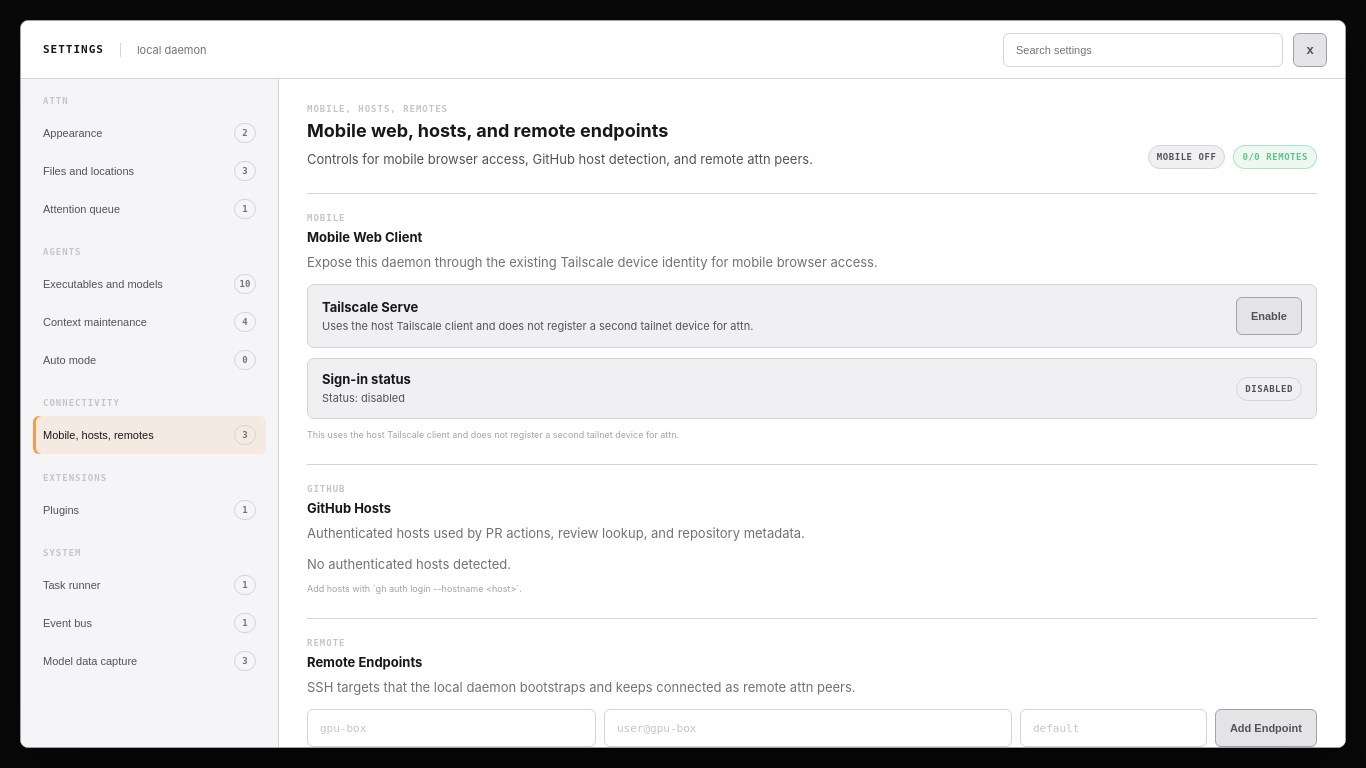
Test case: SettingsModal drafts › writes an effort override on change, under the model field’s mark
Click the button with test id "settings-nav-agents".
click(150, 284)  # box x1=33 y1=265 x2=266 y2=303
(page scrolled)
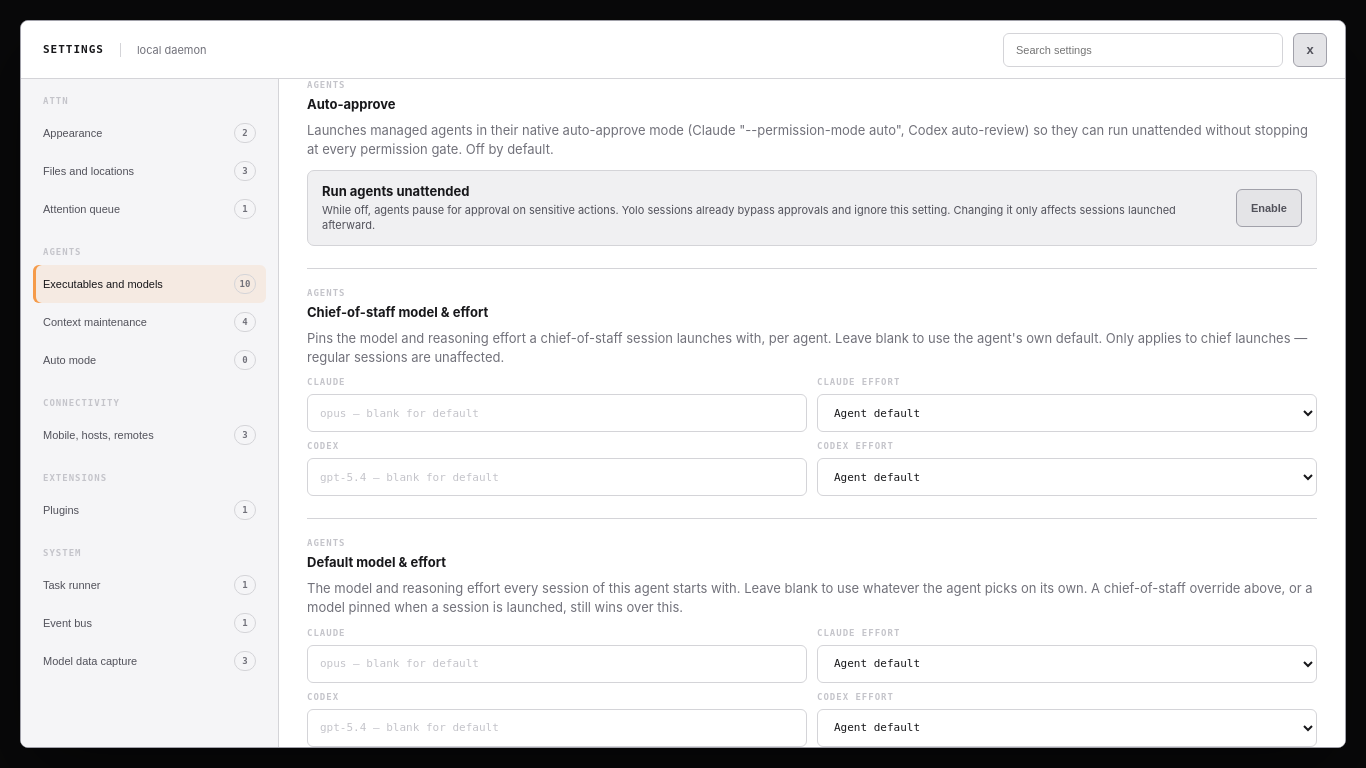
Select "high" in the dropdown with test id "settings-chief-effort-claude" at {"x": 1067, "y": 413}, box x1=817 y1=394 x2=1317 y2=432
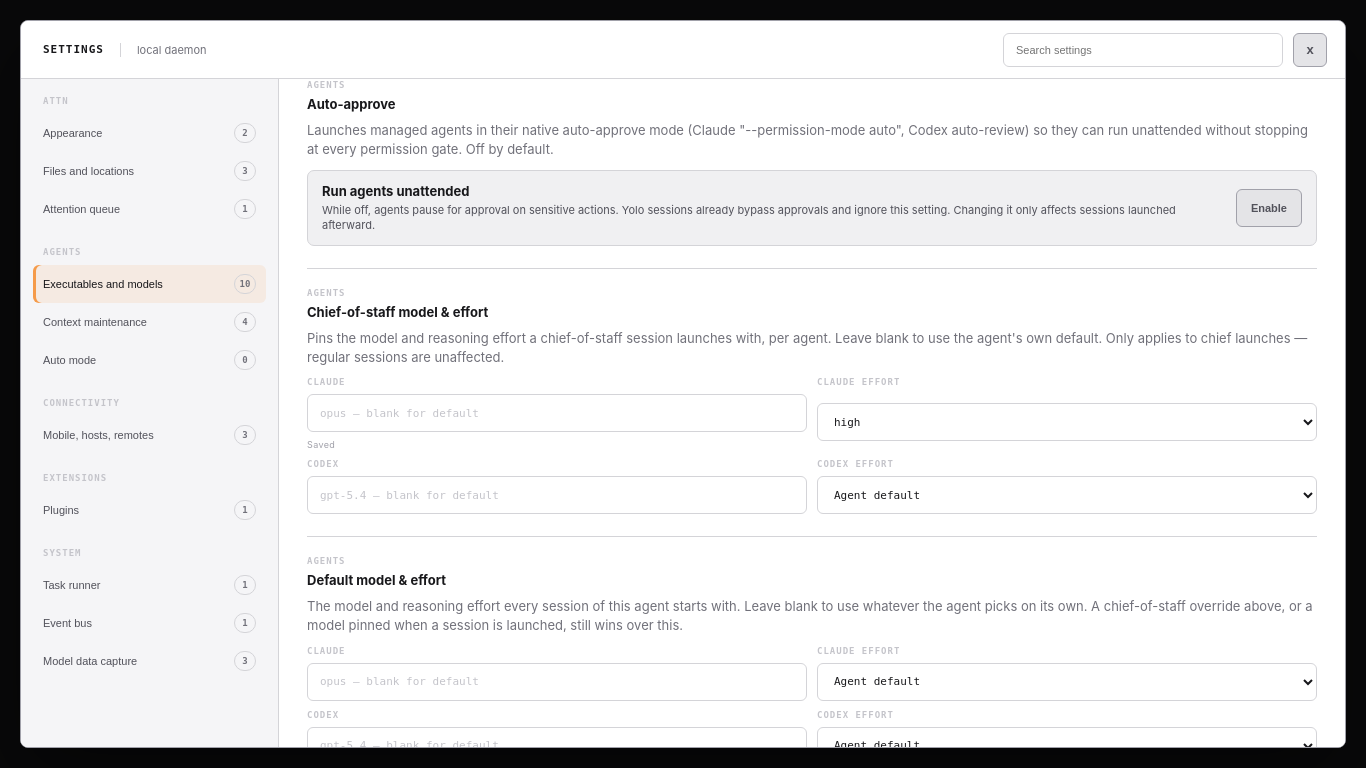
Result: the message "Saved" is shown at x1=307 y1=439 x2=335 y2=450
